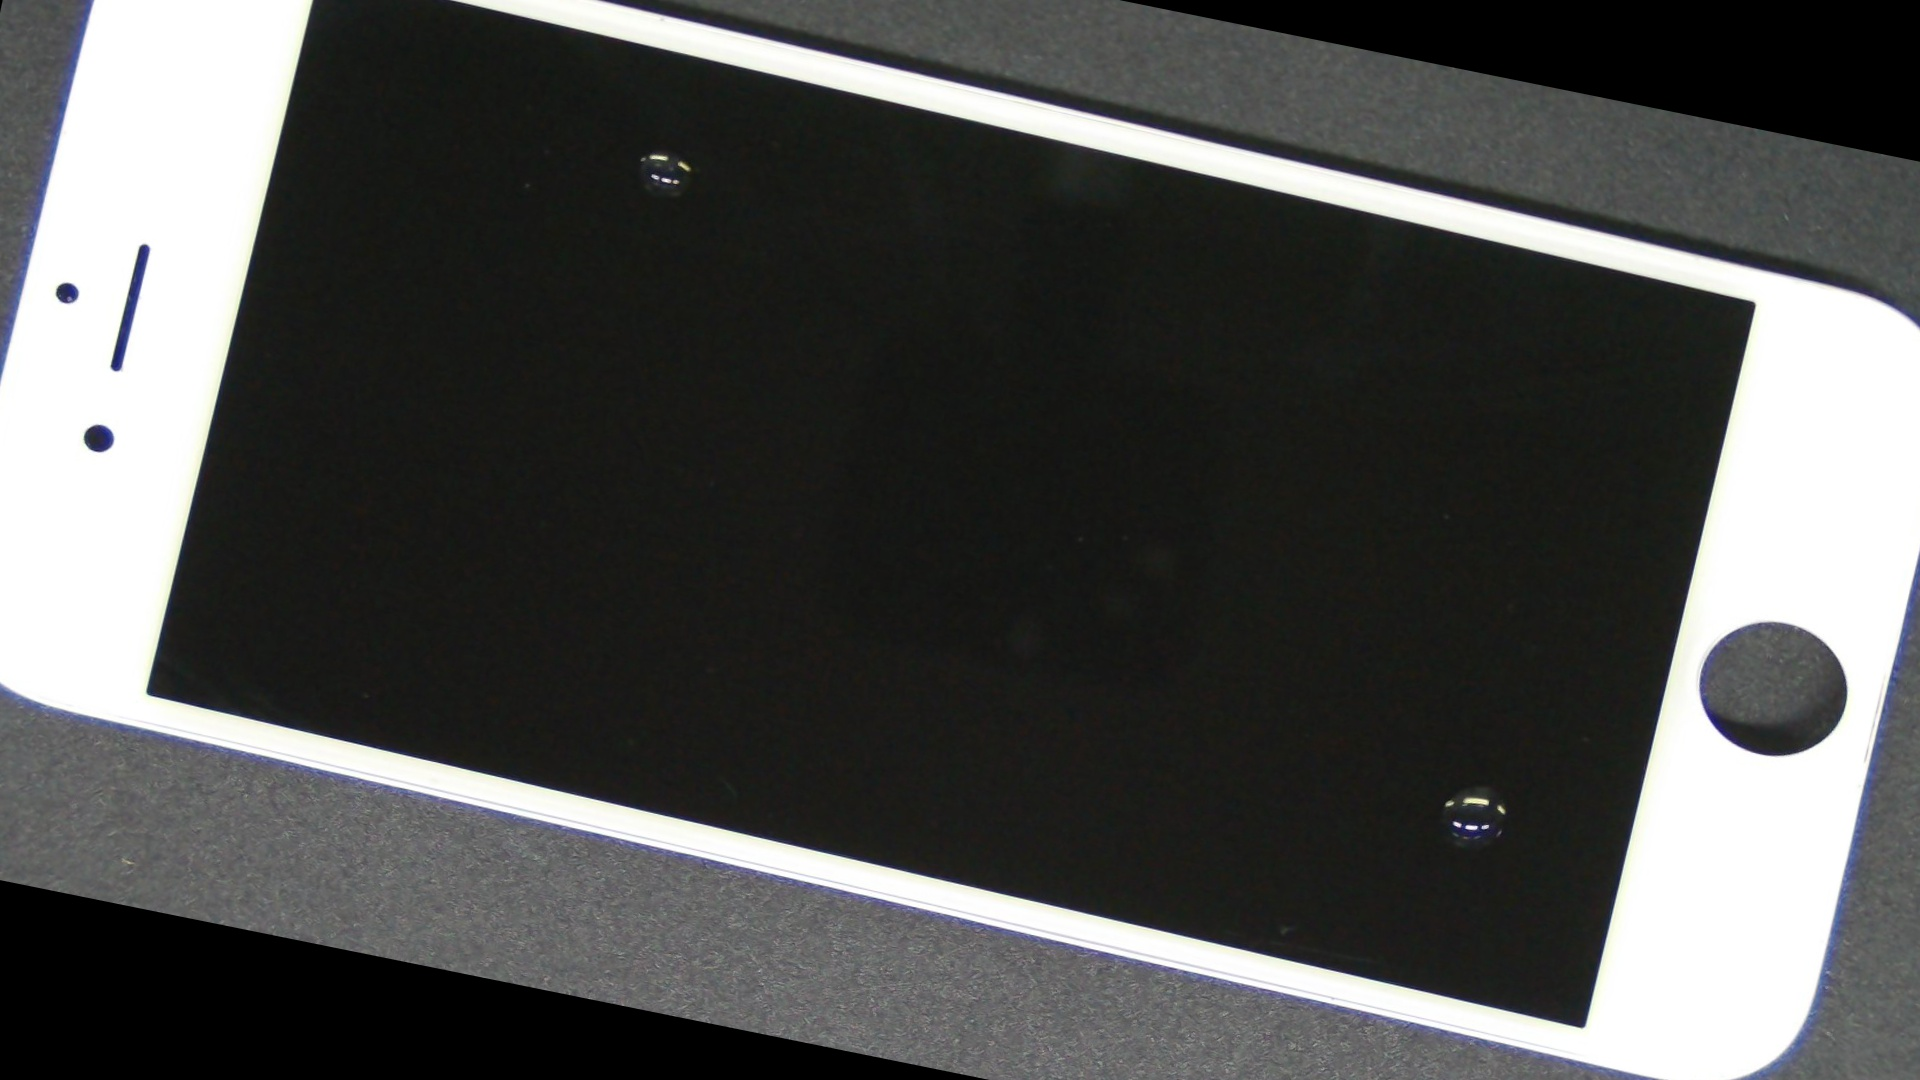oil: (630, 285, 1920, 1080), (310, 0, 1025, 341)
